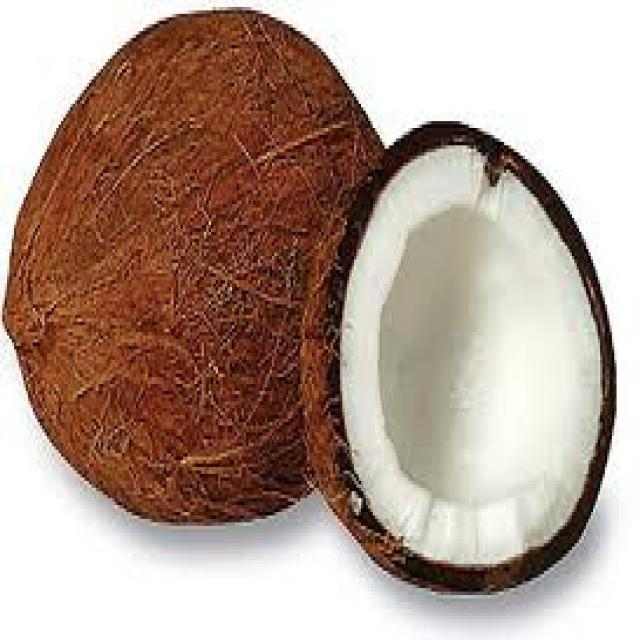coconut: (5, 0, 614, 581)
